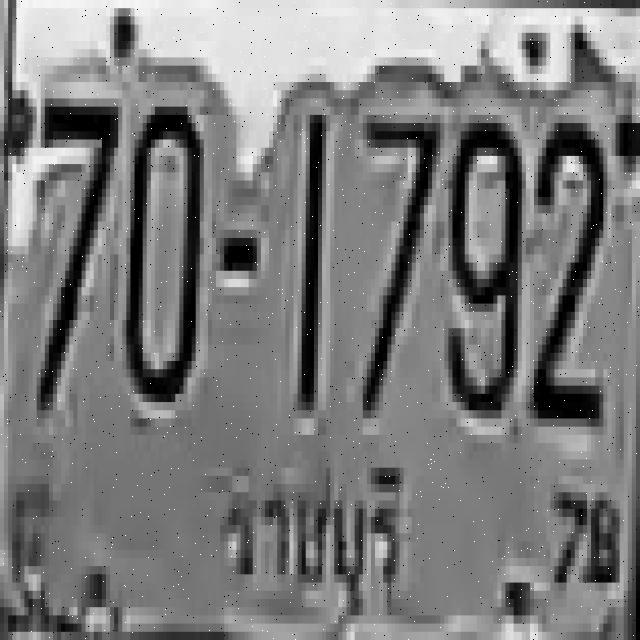0: (122, 98, 200, 394)
1: (296, 99, 324, 402)
2: (526, 106, 604, 418)
7: (36, 86, 114, 406), (358, 102, 436, 406)
9: (444, 107, 518, 410)
Ratchaburi: (216, 459, 407, 608)
